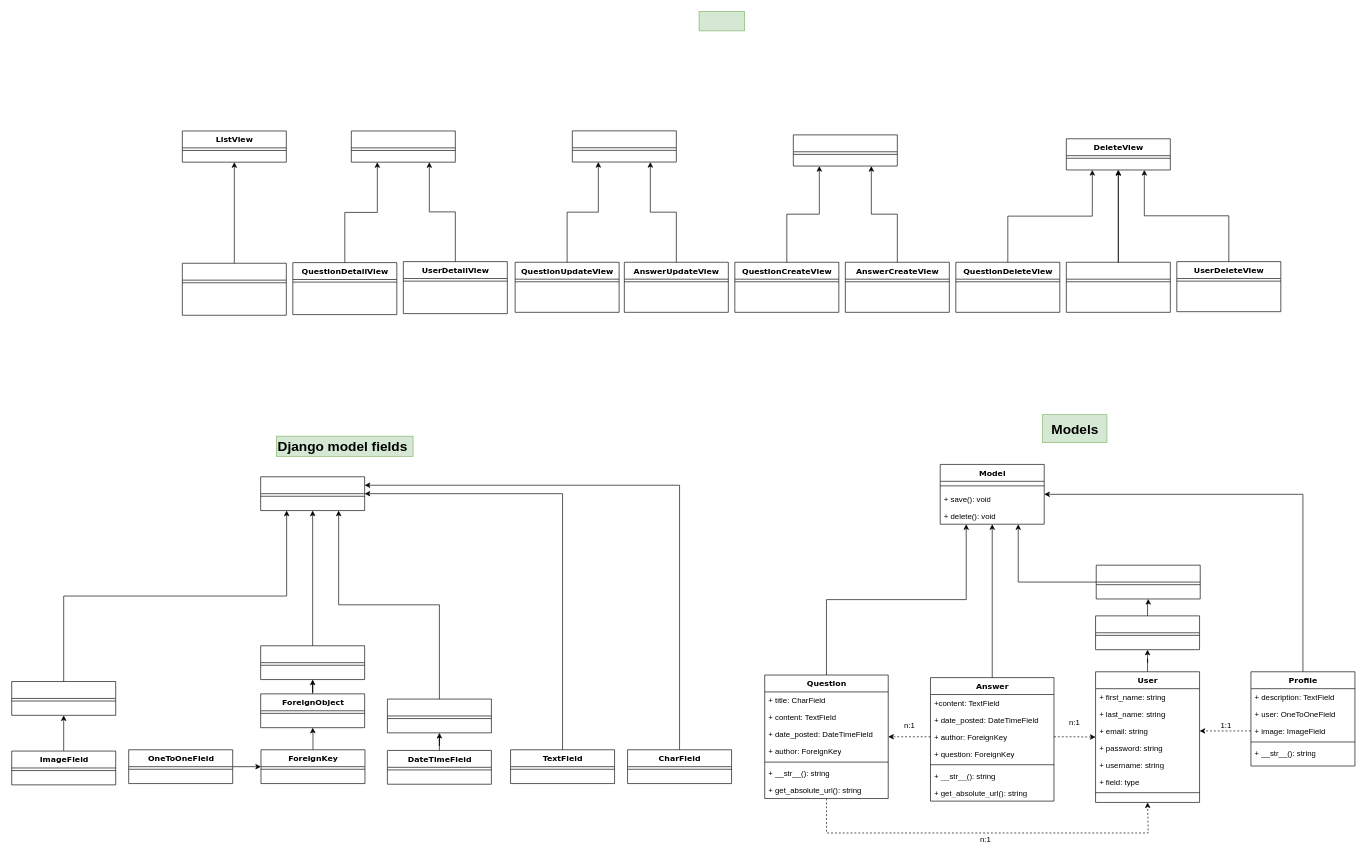
The diagram is 1366 pixels wide and 857 high, and some of its shapes have lost their labels. Each missing label, with the centre of its shape:
"AbstractBaseUser" goes at point (1148, 582).
"AbstractUser" goes at point (1147, 632).
"AnswerDeleteView" goes at point (1118, 287).
"CreateView" goes at point (845, 150).
"DateField" goes at point (439, 715).
"DetailView" goes at point (403, 146).
"Field" goes at point (312, 493).
"FileField" goes at point (63, 698).
"QuestionListView" goes at point (234, 289).
"RelatedField" goes at point (312, 662).
"UpdateView" goes at point (624, 146).
"Views" goes at point (721, 21).
